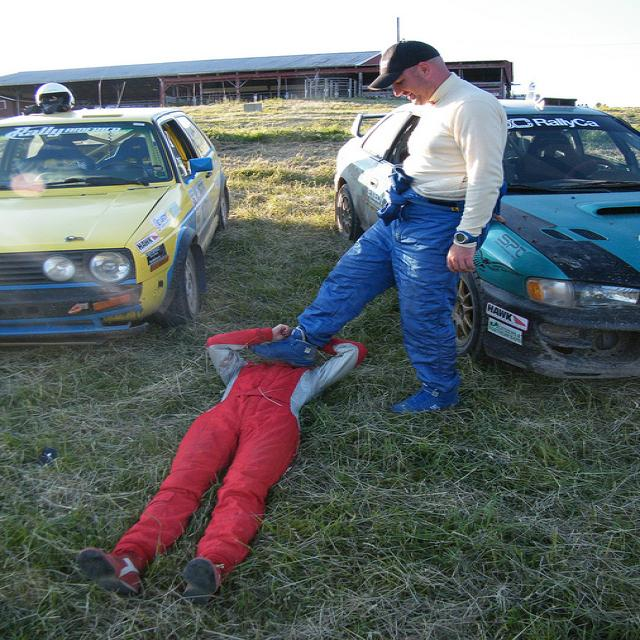Vehicle: (332, 101, 640, 380), (0, 107, 236, 354)
